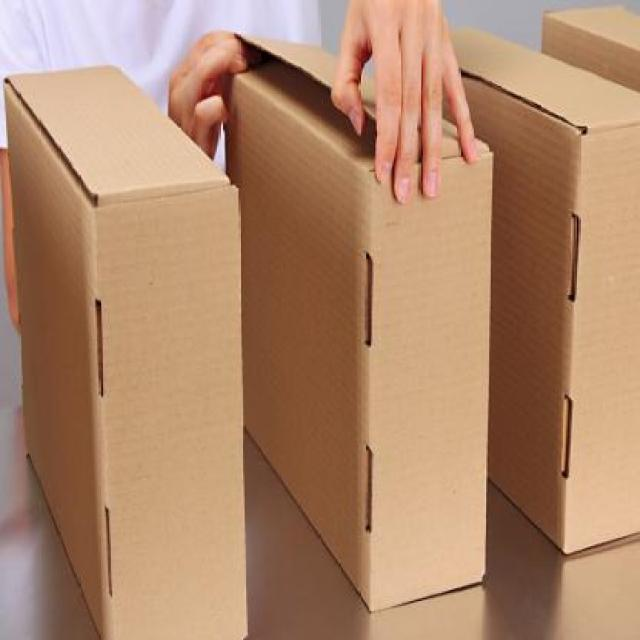box: (222, 29, 508, 640), (0, 61, 255, 640), (426, 14, 640, 582)
